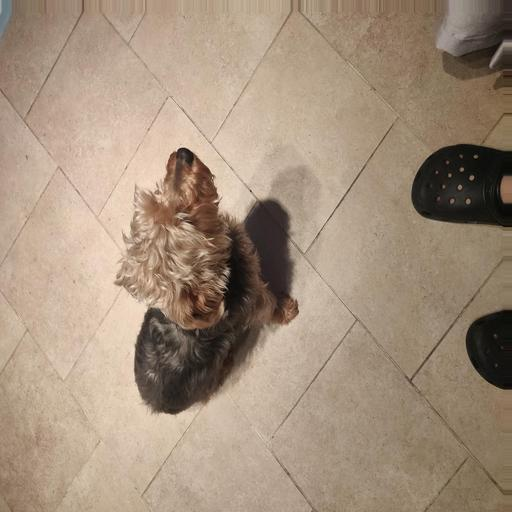dog: (99, 145, 307, 353)
